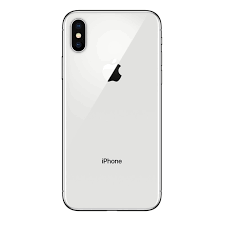iphone: (61, 7, 162, 210)
iphone10: (61, 7, 162, 210)
